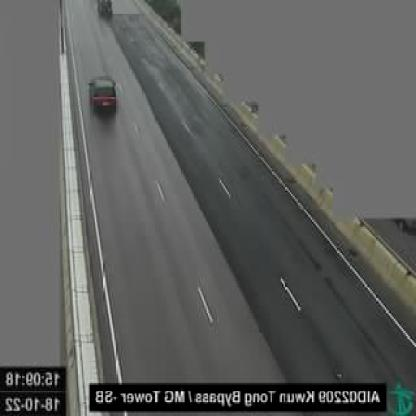Car: (88, 74, 118, 117)
